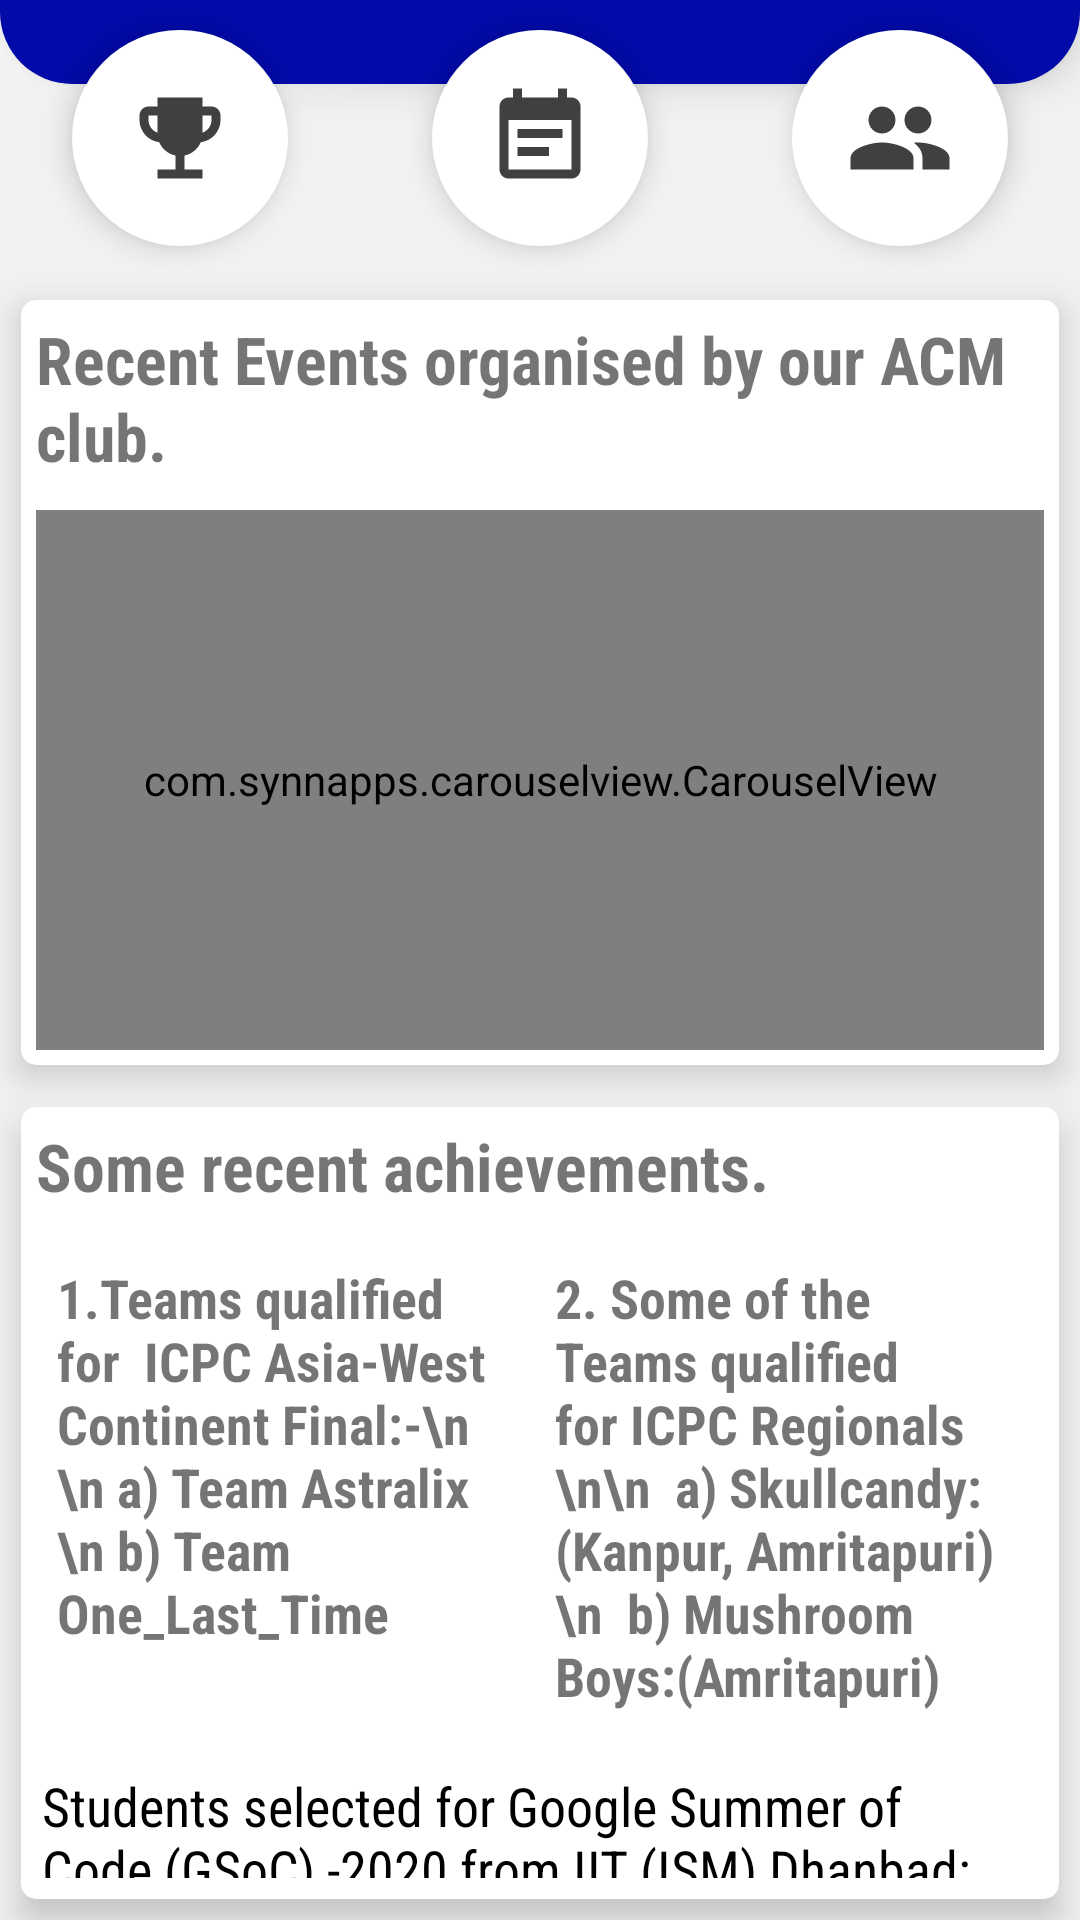

Named icons in this screenshot (1080*1920) and their bounding boxes, (x1, y1, x2, y2):
achivements: (72, 30, 288, 246)
event note: (432, 30, 648, 246)
team: (792, 30, 1008, 246)
